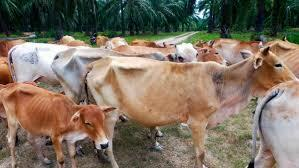cow: (83, 45, 299, 168), (0, 81, 117, 168), (51, 43, 199, 109), (247, 79, 299, 168), (7, 42, 78, 84), (260, 40, 299, 81), (210, 39, 265, 66), (194, 39, 232, 66)
